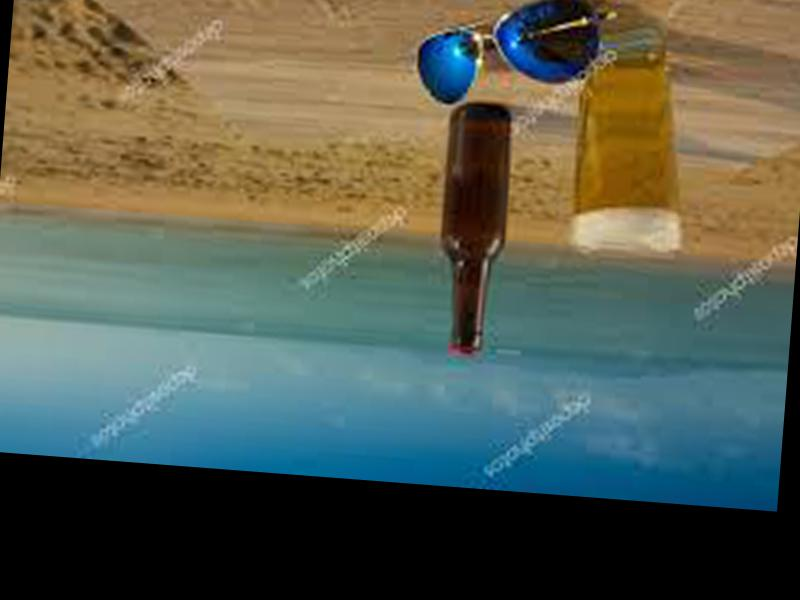Beer: (431, 103, 514, 357)
